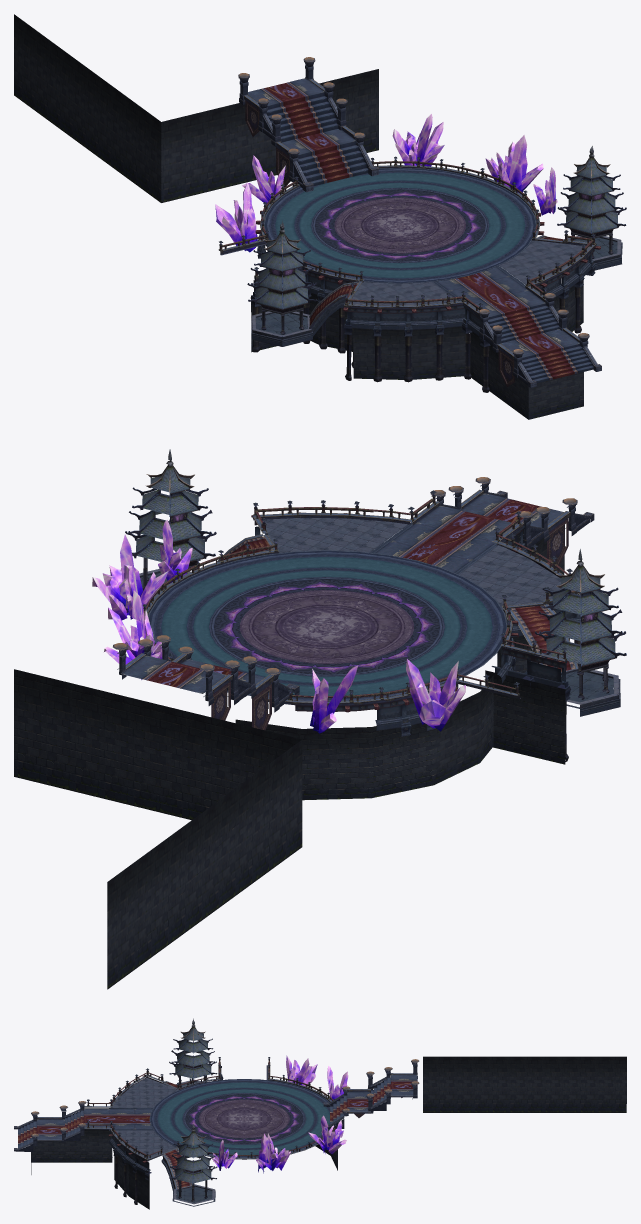
The model's file is DZMG_ZD_DDGC.FBX.
3 views of the same model, one above another, from view 1: azimuth 30°, elevation 25°; view 2: azimuth 150°, elevation 25°; view 3: azimuth 270°, elevation 25° (orthographic). The views are drawn at different scales.
Parts seen in each view (by area): view 1: DZMG_DDGC_DiZuo, DZMG_DDGC_YuanDiZhuan, DZMG_ZD_DiZuoZhuan, DZMG_DDGC_DiZuoZhuan, DZMG_DDGC_TaiJie, DZMG_DDGC_Ta, DZMG_DDGC_TaDing, DZMG_DDGC_Zhuan, DZMG_DDGC_ShuiJing03, DZMG_DDGC_ShuiJing02, DZMG_DDGC_ShuiJing06, DZMG_DDGC_ShuiJing01 (+1 smaller); view 2: DZMG_ZD_DiZuoZhuan, DZMG_DDGC_YuanDiZhuan, DZMG_DDGC_DiZuo, DZMG_DDGC_DiZuoZhuan, DZMG_DDGC_TaDing, DZMG_DDGC_Zhuan, DZMG_DDGC_TaiJie, DZMG_DDGC_Ta, DZMG_DDGC_ShuiJing03, DZMG_DDGC_ShuiJing06, DZMG_DDGC_ShuiJing02, DZMG_DDGC_ShuiJing01 (+1 smaller); view 3: DZMG_ZD_DiZuoZhuan, DZMG_DDGC_YuanDiZhuan, DZMG_DDGC_DiZuo, DZMG_DDGC_DiZuoZhuan, DZMG_DDGC_TaiJie, DZMG_DDGC_TaDing, DZMG_DDGC_Zhuan, DZMG_DDGC_Ta, DZMG_DDGC_ShuiJing03, DZMG_DDGC_ShuiJing02, DZMG_DDGC_ShuiJing06, DZMG_DDGC_ShuiJing01 (+1 smaller).
Boxes of the visible parts, x1,y1,x2,y2 form: DZMG_DDGC_DiZuo: (218,156,601,392); DZMG_DDGC_YuanDiZhuan: (264,167,536,283); DZMG_ZD_DiZuoZhuan: (14,14,378,202); DZMG_DDGC_DiZuoZhuan: (251,282,583,419); DZMG_DDGC_TaiJie: (238,57,379,192); DZMG_DDGC_Ta: (247,146,626,346); DZMG_DDGC_TaDing: (256,158,617,309); DZMG_DDGC_Zhuan: (349,240,588,305); DZMG_DDGC_ShuiJing03: (485,135,543,194); DZMG_DDGC_ShuiJing02: (392,114,444,166); DZMG_DDGC_ShuiJing06: (215,182,257,252); DZMG_DDGC_ShuiJing01: (242,155,285,203); DZMG_ZD_DiZuoZhuan: (14,669,302,989); DZMG_DDGC_YuanDiZhuan: (148,550,507,701); DZMG_DDGC_DiZuo: (142,477,594,761); DZMG_DDGC_DiZuoZhuan: (235,529,569,800); DZMG_DDGC_TaDing: (136,465,615,666); DZMG_DDGC_Zhuan: (265,517,577,609); DZMG_DDGC_TaiJie: (113,635,299,730); DZMG_DDGC_Ta: (125,449,626,716); DZMG_DDGC_ShuiJing03: (92,534,168,620); DZMG_DDGC_ShuiJing06: (406,659,465,731); DZMG_DDGC_ShuiJing02: (104,590,162,679); DZMG_DDGC_ShuiJing01: (310,665,357,733); DZMG_ZD_DiZuoZhuan: (423,1056,626,1112); DZMG_DDGC_YuanDiZhuan: (149,1079,337,1157); DZMG_DDGC_DiZuo: (14,1057,336,1204); DZMG_DDGC_DiZuoZhuan: (31,1129,337,1209); DZMG_DDGC_TaiJie: (323,1059,419,1129); DZMG_DDGC_TaDing: (175,1026,211,1183); DZMG_DDGC_Zhuan: (111,1077,178,1160); DZMG_DDGC_Ta: (169,1018,217,1206); DZMG_DDGC_ShuiJing03: (256,1133,290,1173); DZMG_DDGC_ShuiJing02: (308,1115,346,1154); DZMG_DDGC_ShuiJing06: (286,1055,317,1086); DZMG_DDGC_ShuiJing01: (327,1066,348,1100).
Bounding box in the file's own units: 6217 × 2285 × 12572.
